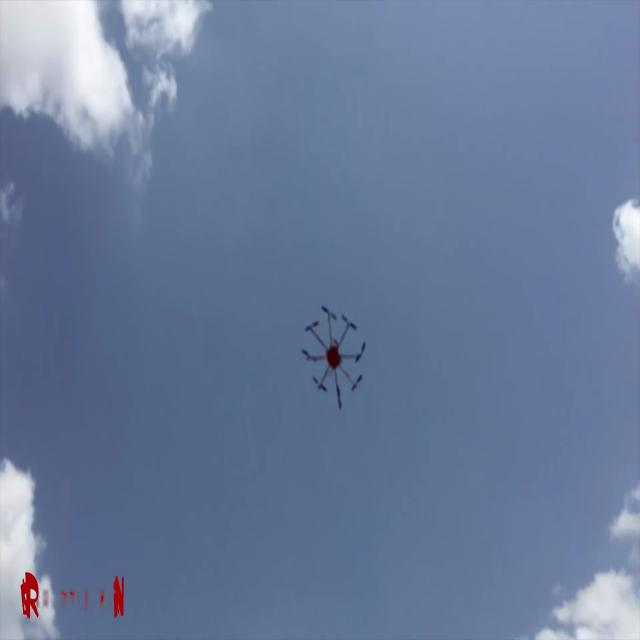drone: (300, 287, 371, 425)
